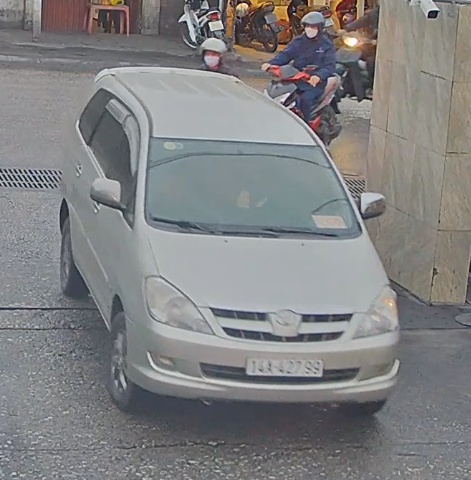vehicle plate: (243, 355, 327, 382)
